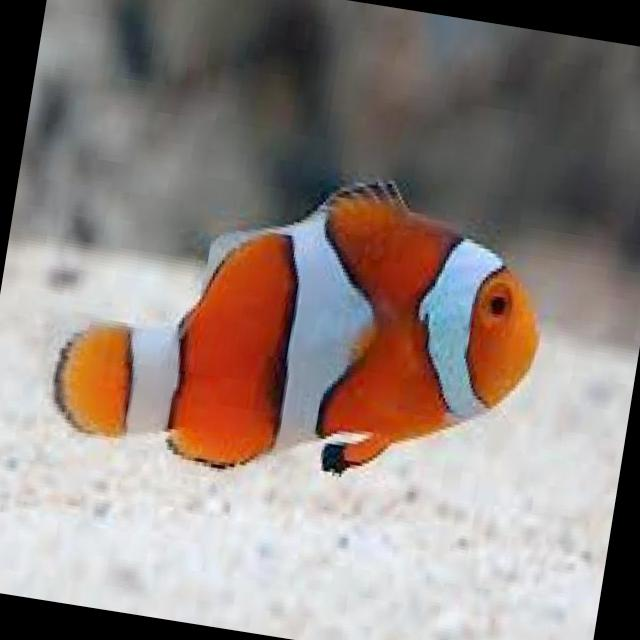ClownFish: (43, 133, 566, 520)
